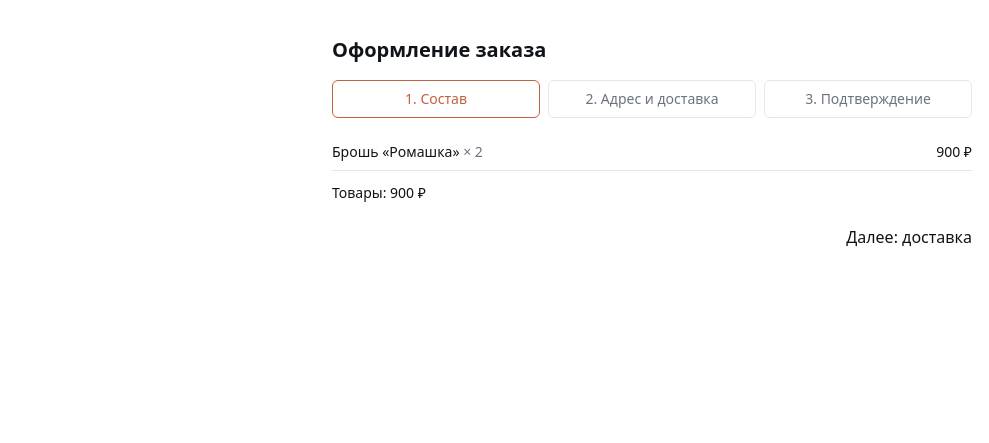
Scenario: CheckoutPage — итог заказа › ссылка «Мои заказы» ведёт на список заказов кабинета
The image size is (989, 443).
Click the button "Далее: доставка". click: (909, 237)
box: x1=846 y1=215 x2=972 y2=259
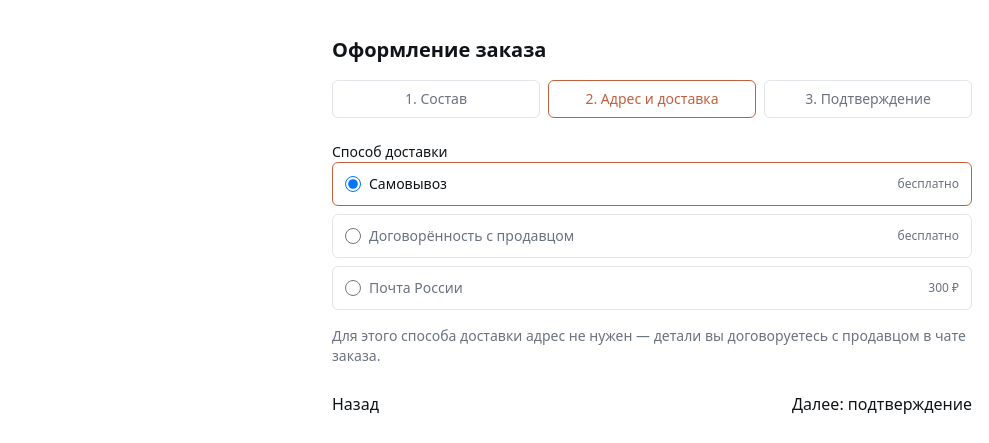
Click the button "Далее: подтверждение". click: (882, 404)
box: x1=792 y1=382 x2=972 y2=426
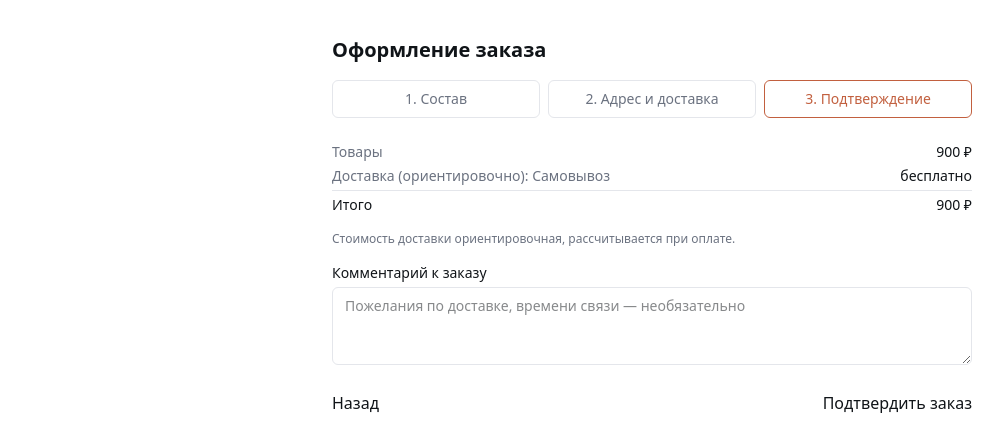
Click the button "Подтвердить заказ". click: (897, 403)
box: x1=823 y1=381 x2=972 y2=425
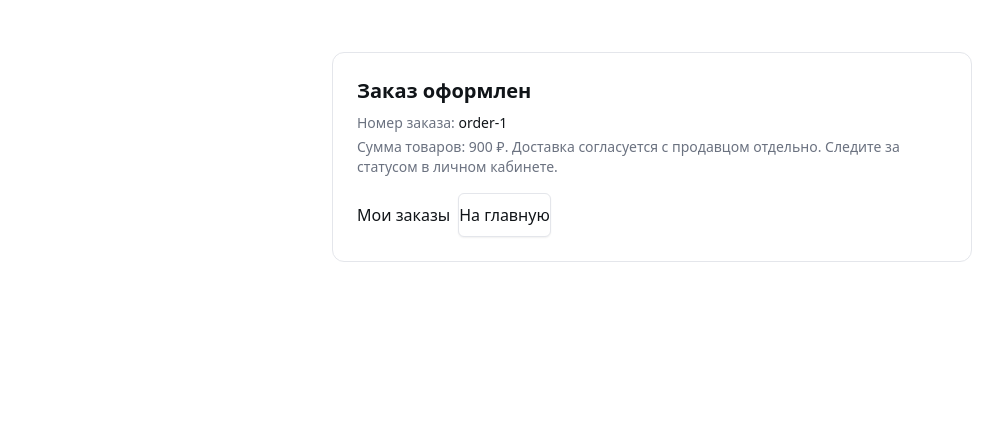
Now the heading "Заказ оформлен" is shown, box x1=357 y1=77 x2=531 y2=104
Click the link "Мои заказы". click: (404, 215)
box: x1=357 y1=204 x2=450 y2=226
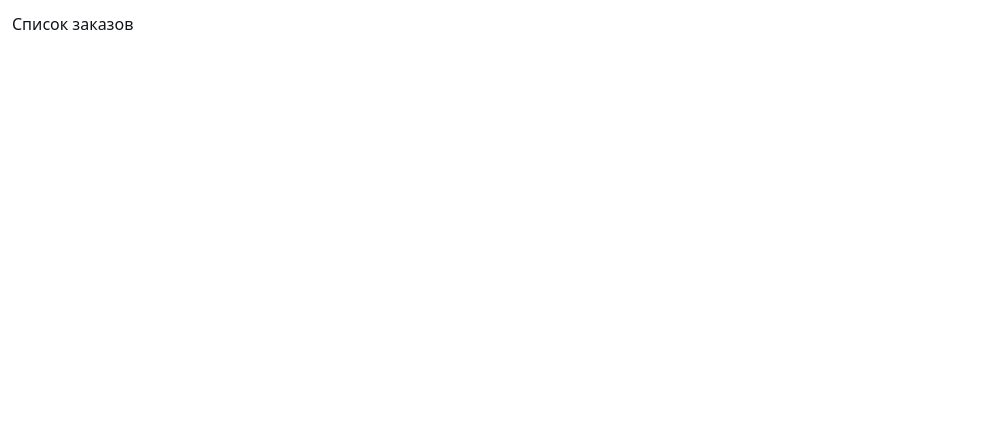
Now the text "Список заказов" is shown, box x1=12 y1=13 x2=133 y2=35
